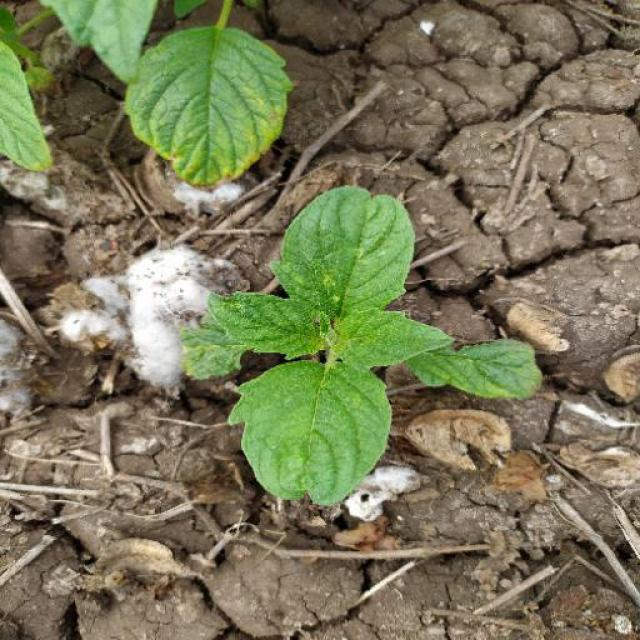crop: (140, 178, 550, 508)
